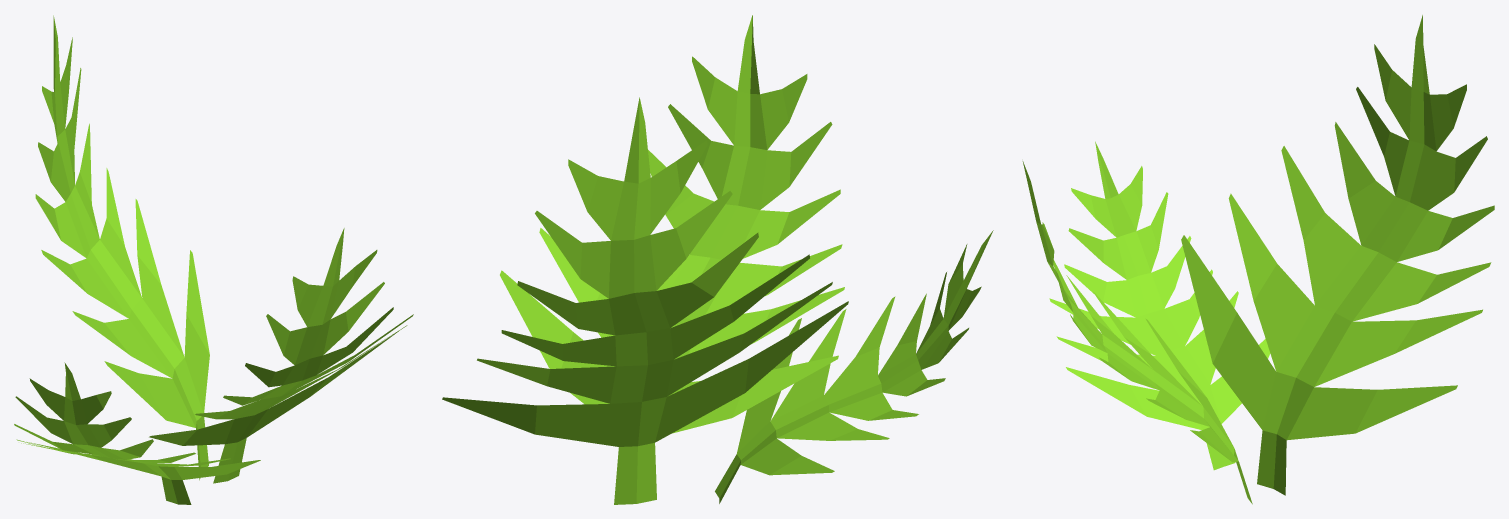
The model's file is FPOUGERE.fbx.
3 views of the same model, side by side, from view 1: azimuth 30°, elevation 25°; view 2: azimuth 150°, elevation 25°; view 3: azimuth 270°, elevation 25° (orthographic). The views are drawn at different scales.
Parts seen in each view (by area): view 1: Plane.002, Plane.003, Plane.005; view 2: Plane.002, Plane.003, Plane.005; view 3: Plane.002, Plane.005, Plane.003.
Part boxes in pixels (<box>): Plane.002: <box>35,15,209,480</box>; Plane.003: <box>149,228,413,483</box>; Plane.005: <box>14,362,260,504</box>; Plane.002: <box>442,97,848,504</box>; Plane.003: <box>500,15,844,433</box>; Plane.005: <box>715,230,993,503</box>; Plane.002: <box>1181,15,1494,495</box>; Plane.005: <box>1049,141,1270,470</box>; Plane.003: <box>1022,161,1252,504</box>.
Bounding box in the file's own units: 452 × 466 × 454.
